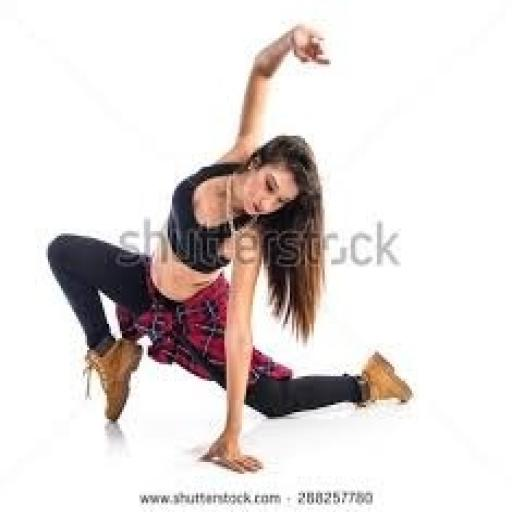dancing: (41, 17, 414, 476)
